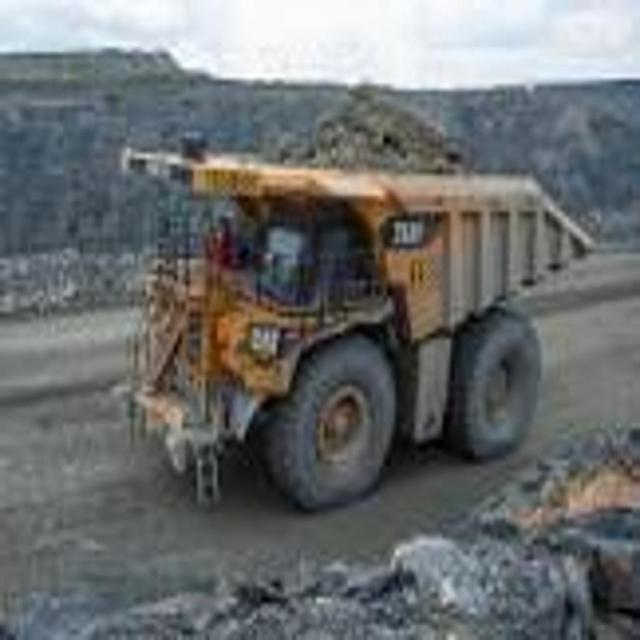dump_truck: (134, 116, 596, 541)
